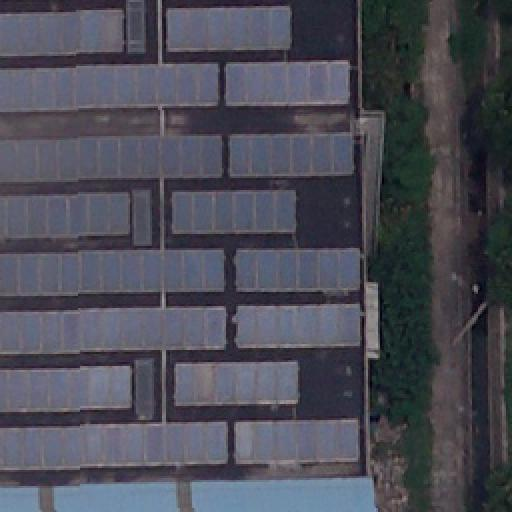solar-panel: (1, 419, 231, 469), (0, 306, 224, 354), (0, 248, 224, 296), (1, 134, 223, 182), (1, 65, 223, 111), (233, 415, 359, 465), (0, 366, 132, 410), (174, 361, 298, 407), (0, 9, 124, 55), (228, 132, 356, 176), (226, 62, 354, 106), (236, 304, 360, 348), (0, 195, 128, 237), (164, 7, 292, 49), (236, 247, 360, 289), (170, 192, 298, 232)
